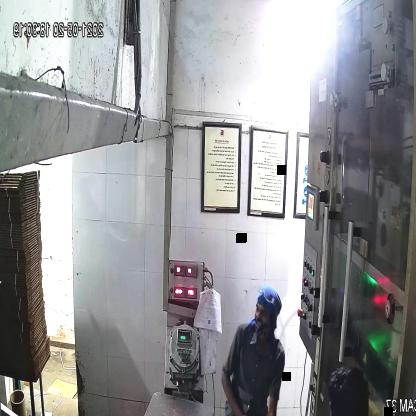no_goggles: (253, 304, 275, 322)
